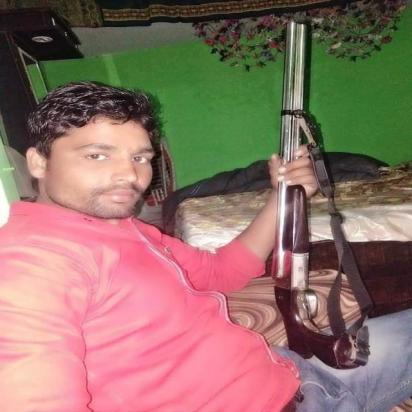Gun: (269, 20, 368, 371)
